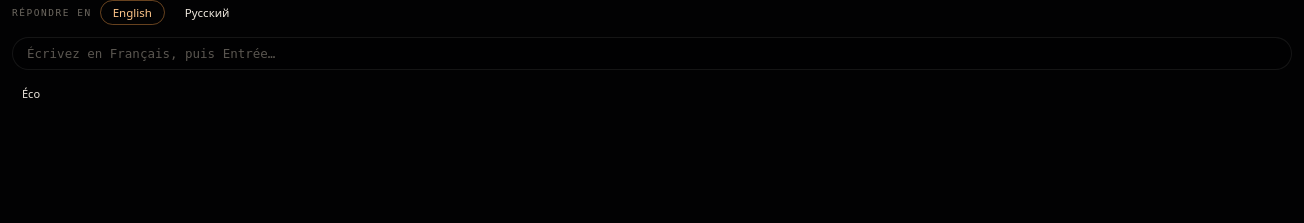
reply in the teammates’ language › shows the voice error and keeps the pop-up open
Type "éco" into the field named "Message" at (652, 54), box [12,37,1292,70]
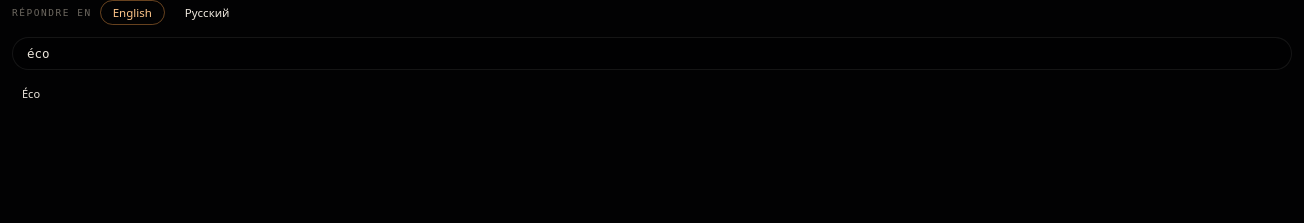
Press Enter in the field named "Message", box [12,37,1292,70]
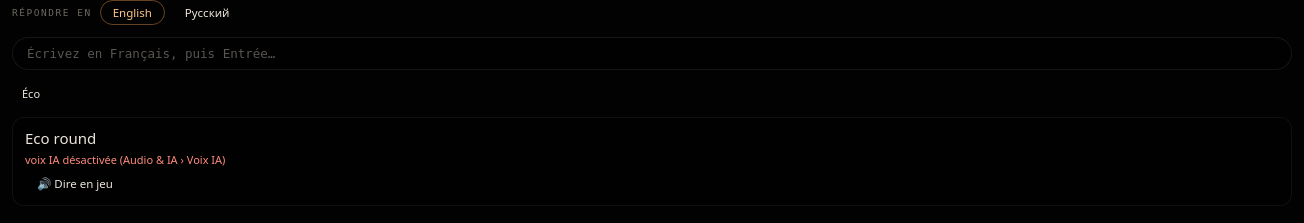
Expected: the text "voix IA désactivée (Audio & IA › Voix IA)" is shown, [25,152,225,167]
